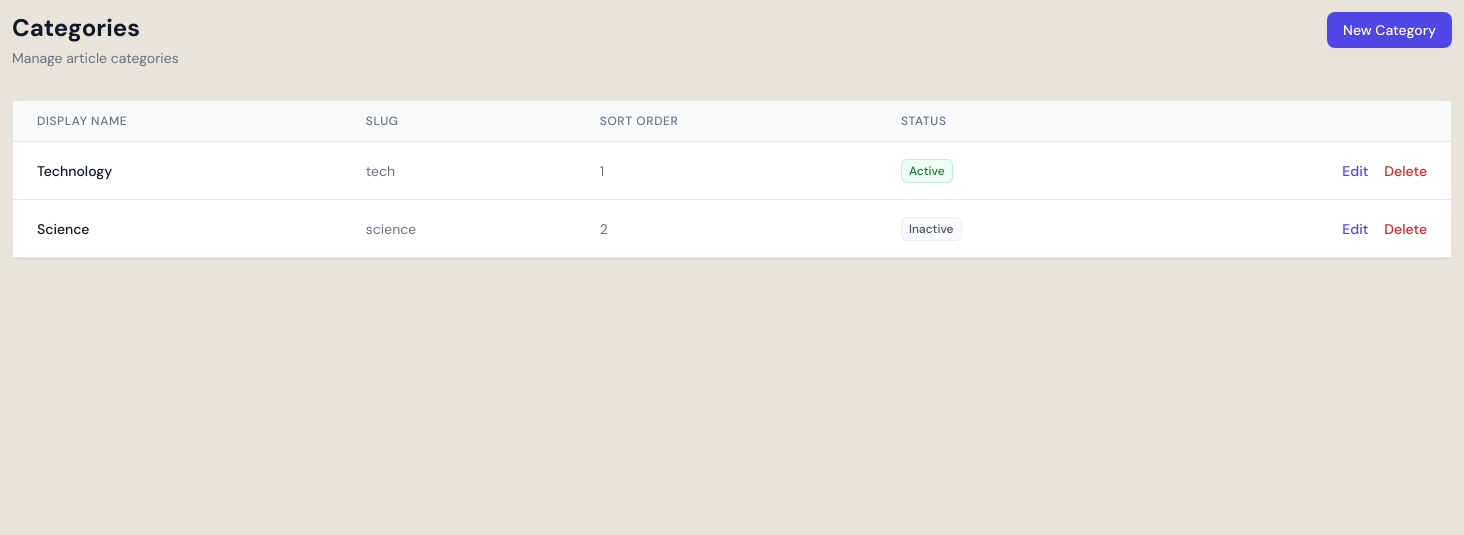
Test case: CategoryPage › opens edit form with populated data
Expected: the text "Technology" is shown, [13,142,342,200]
Step 1. Click the button "Edit" in the row of "Technology" → (1355, 170), box [1342,160,1368,180]
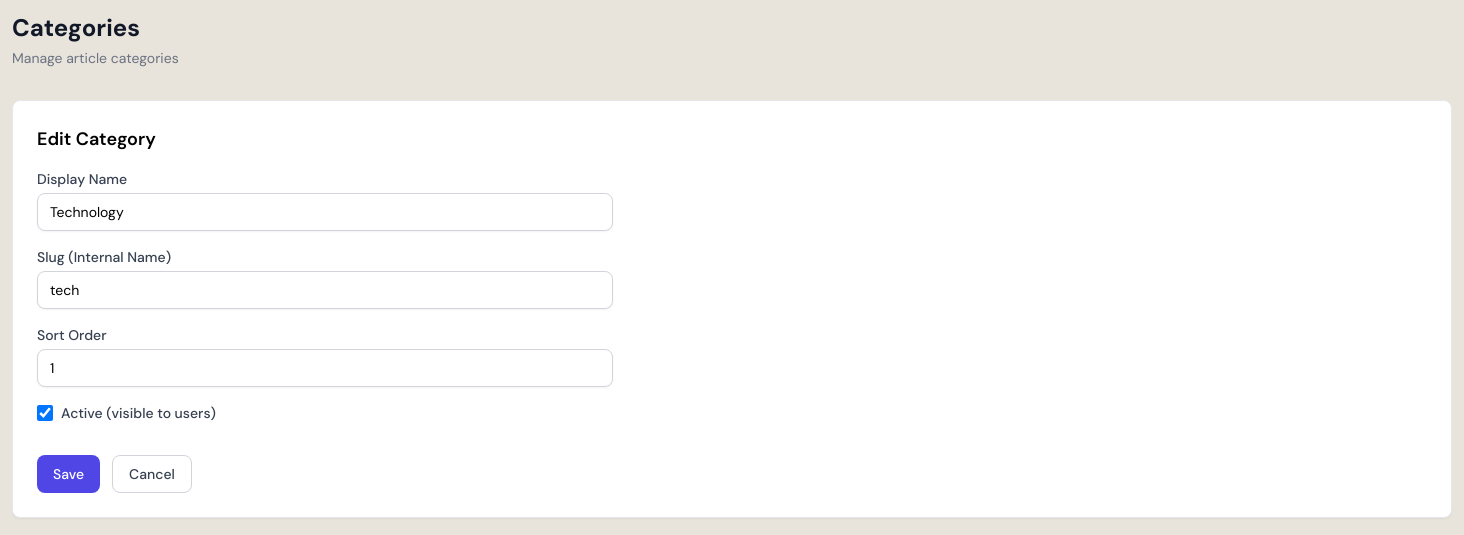
Expected: the heading "Edit Category" is shown, [37,127,156,151]
Expected: the field labelled "Display Name" holds "Technology", [37,193,613,231]
